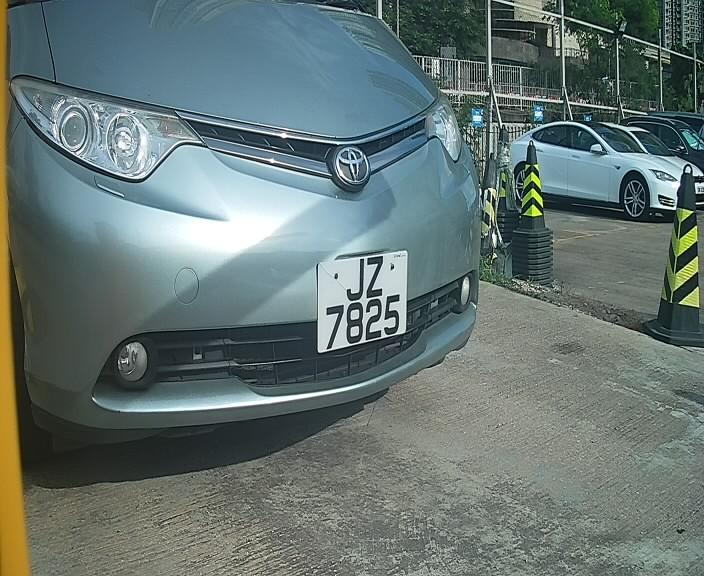License Plate: (312, 242, 415, 363)
